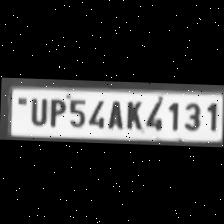1: (162, 98, 180, 132), (202, 100, 220, 132)
3: (180, 100, 202, 132)
4: (142, 96, 164, 130), (86, 96, 106, 129)
5: (64, 95, 86, 128)
A: (104, 97, 122, 129)
K: (120, 96, 142, 130)
P: (45, 95, 65, 127)
U: (25, 94, 47, 127)
